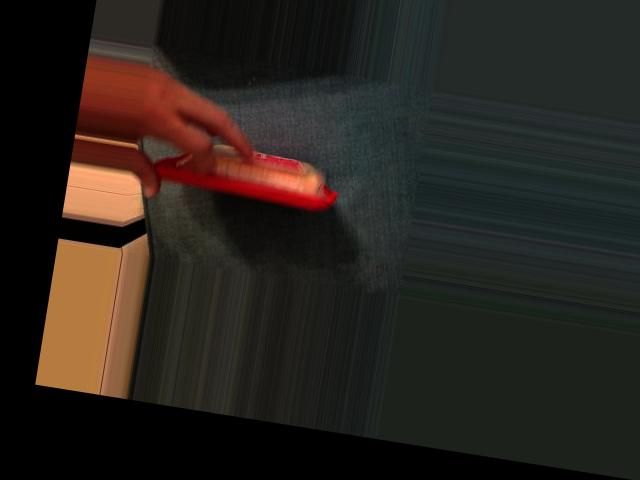cheese: (146, 128, 344, 216)
